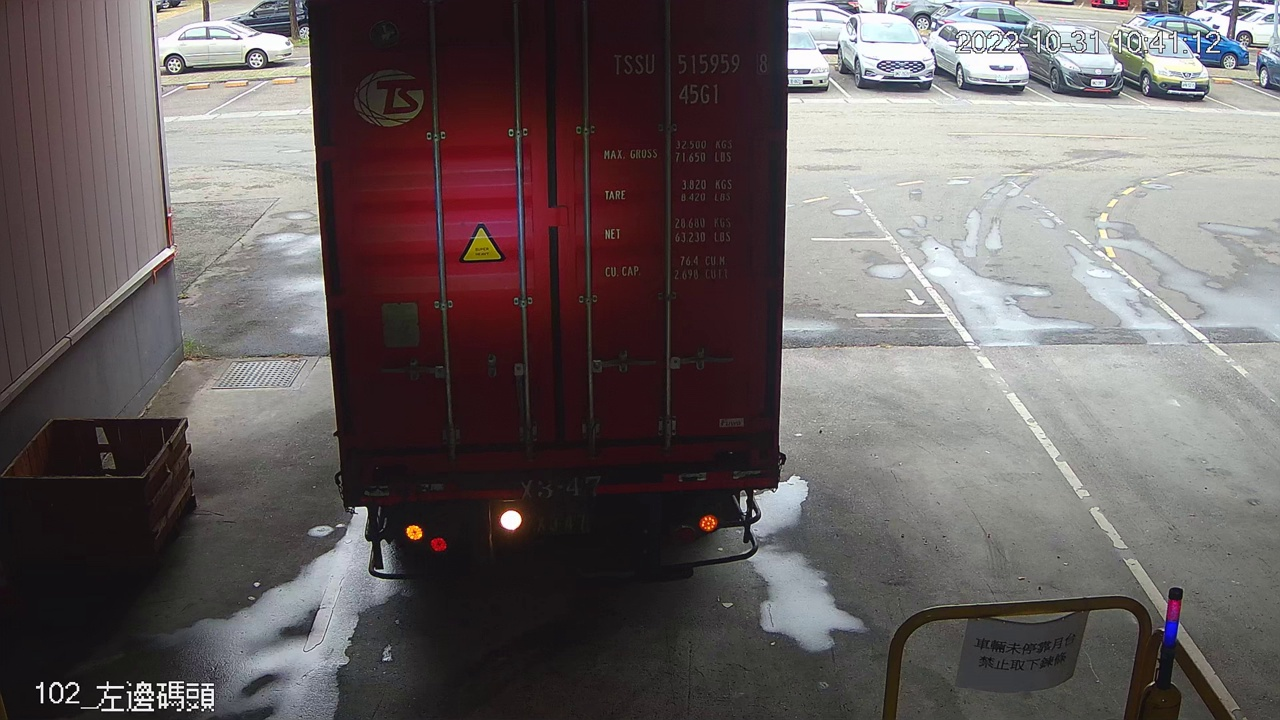container: (606, 44, 777, 108)
